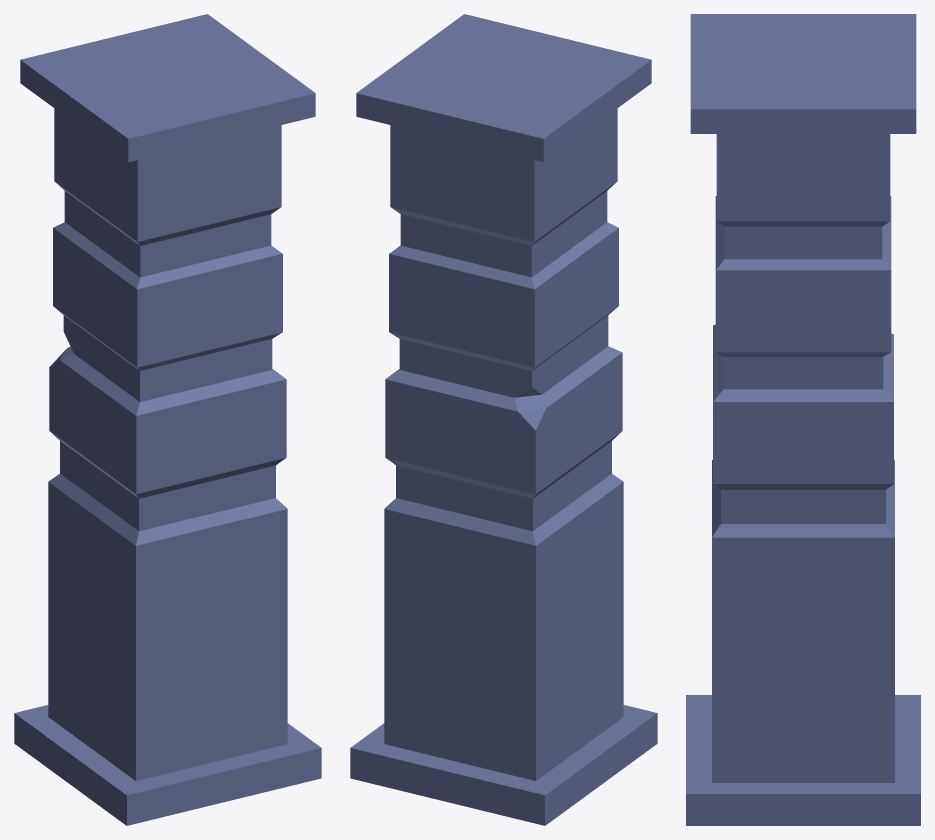
The model's file is column_2_1.fbx.
The picture shows the model from 3 angles, left to right: view 1: azimuth 30°, elevation 25°; view 2: azimuth 150°, elevation 25°; view 3: azimuth 270°, elevation 25°; orthographic projection. The views are drawn at different scales.
Visible parts, largest first — view 1: column_2_1; view 2: column_2_1; view 3: column_2_1.
Part boxes in pixels (bbox=[...]): column_2_1: bbox=[14, 14, 321, 825]; column_2_1: bbox=[350, 14, 657, 825]; column_2_1: bbox=[686, 14, 920, 825].
Size of the model in its own units: 2.6 by 8.73 by 2.6.
